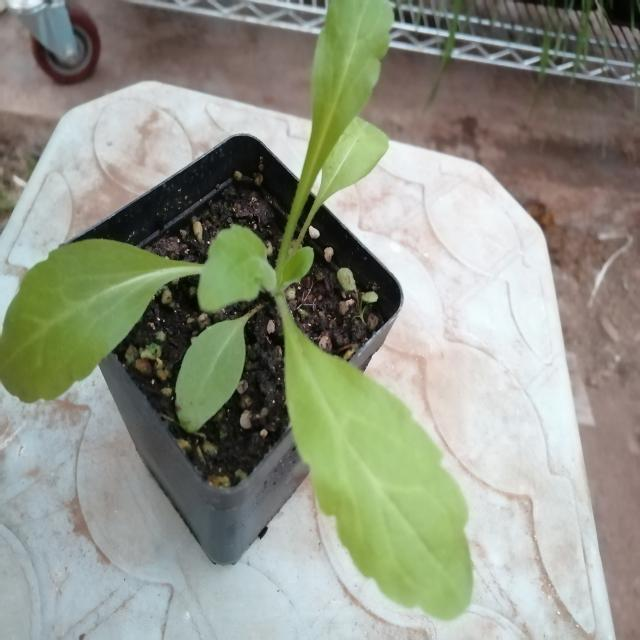horseweed: (27, 18, 481, 590)
